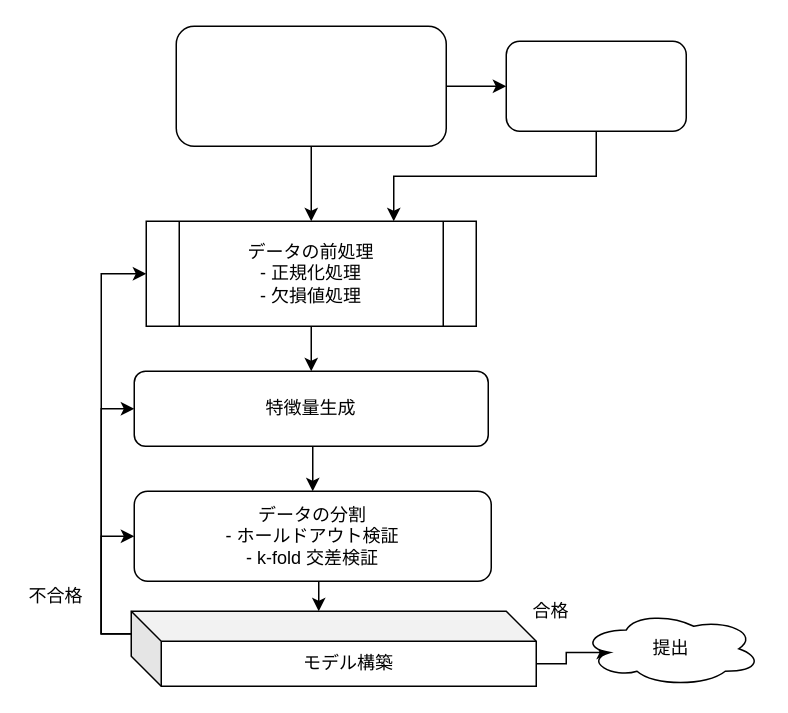
The diagram is 788 pixels wide and 713 high, and some of its shapes have lost their labels. Each missing label, with the box of its shape:
データの可視化: (505, 40, 686, 131)
データの読み込み: (175, 25, 446, 146)
